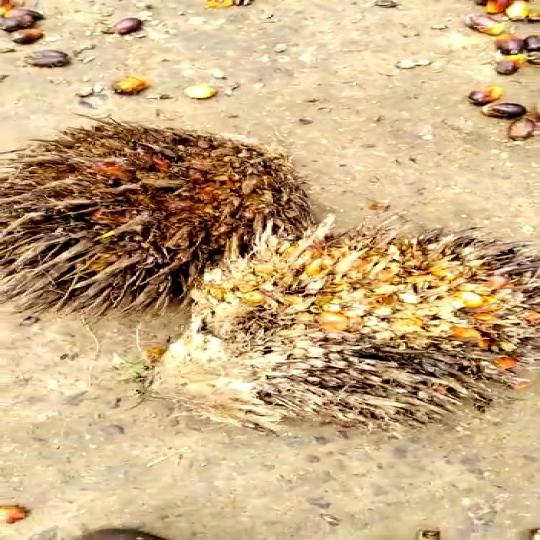terlalu masak: (151, 256, 540, 435), (0, 138, 324, 313)
